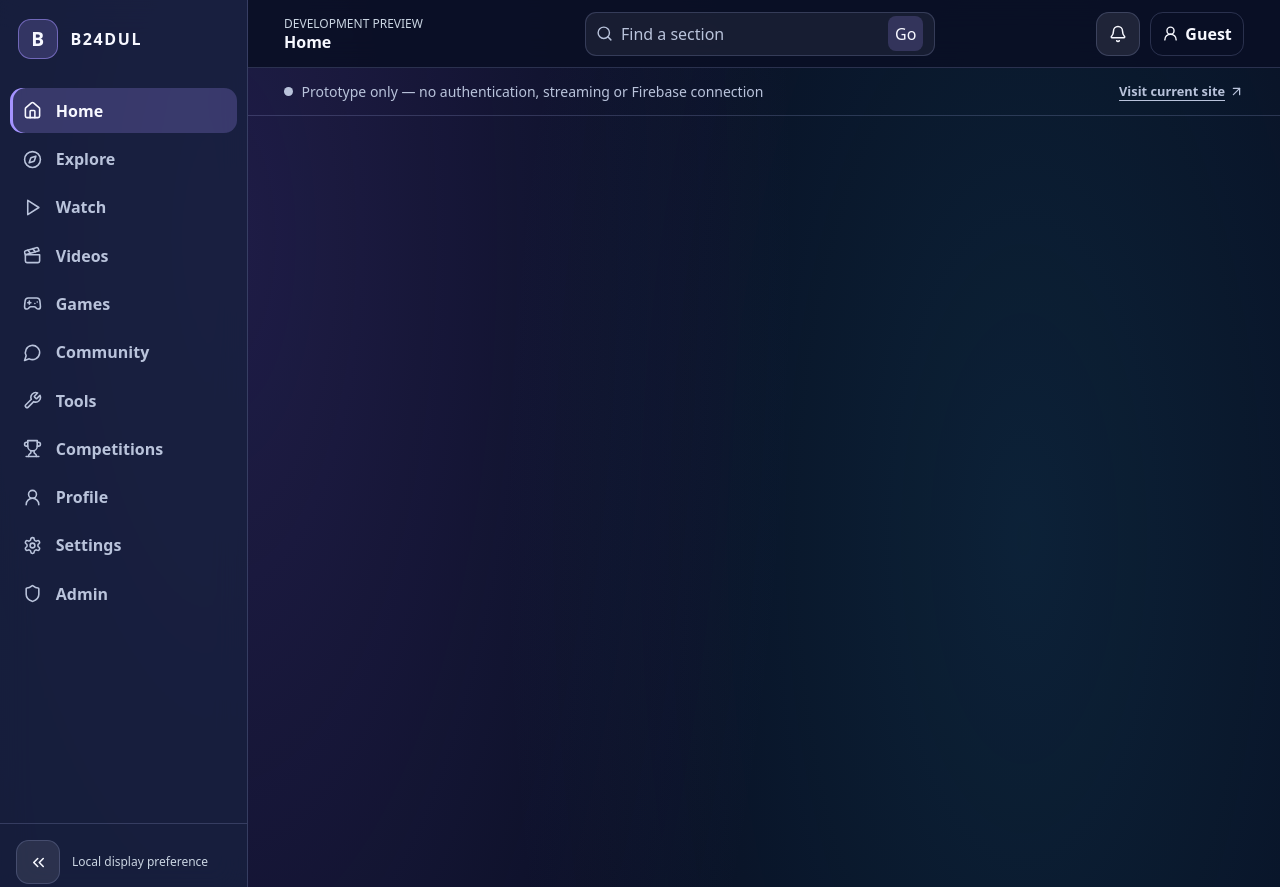
it: isolated application shell › collapses the sidebar and persists its local preference
The width and height of the screenshot is (1280, 887).
Click the button named "Collapse sidebar": click(38, 862) [16, 840, 60, 884]
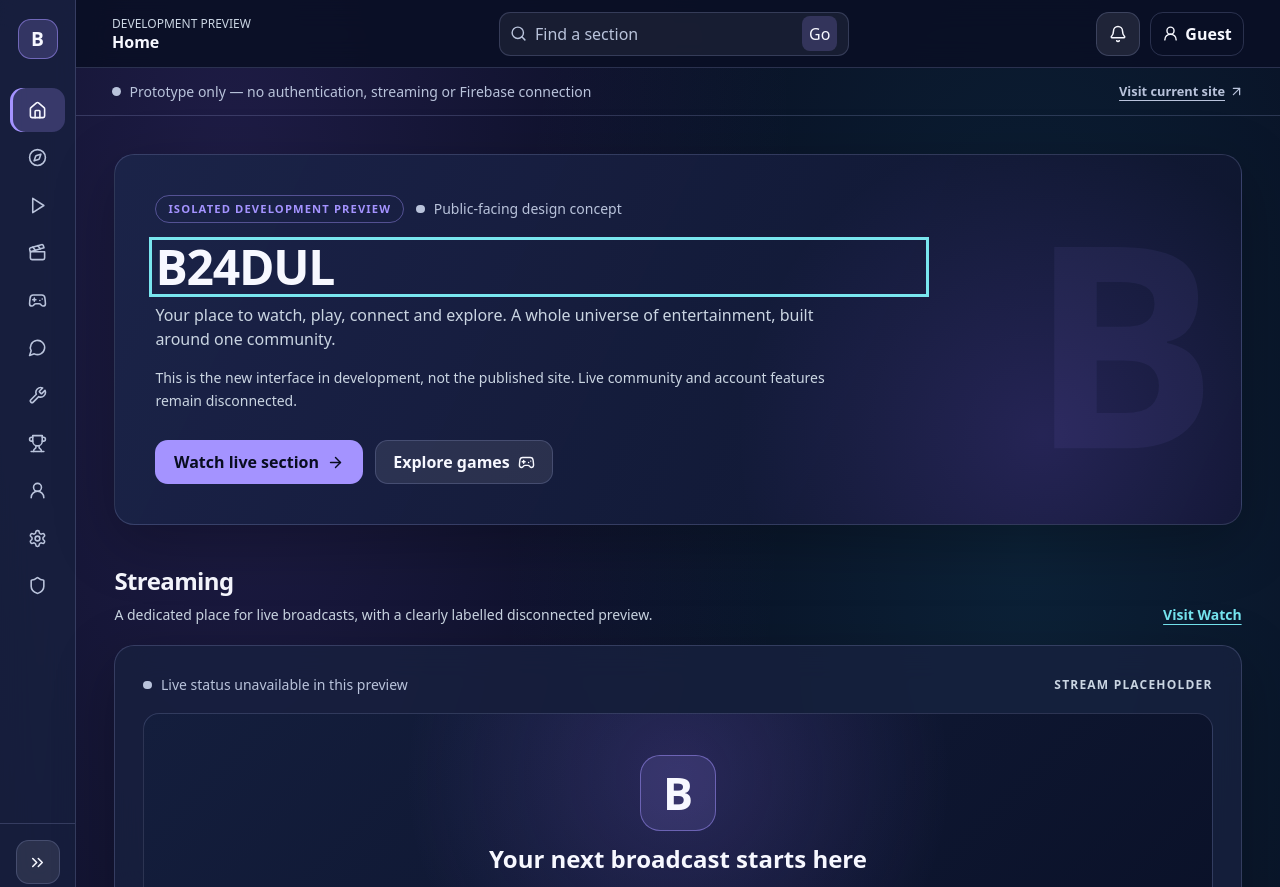
Result: the button named "Expand sidebar" is shown at [16, 840, 60, 884]
